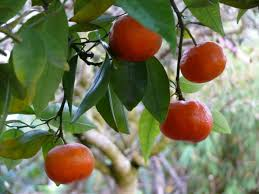orange: (43, 145, 95, 184), (181, 42, 229, 83)
